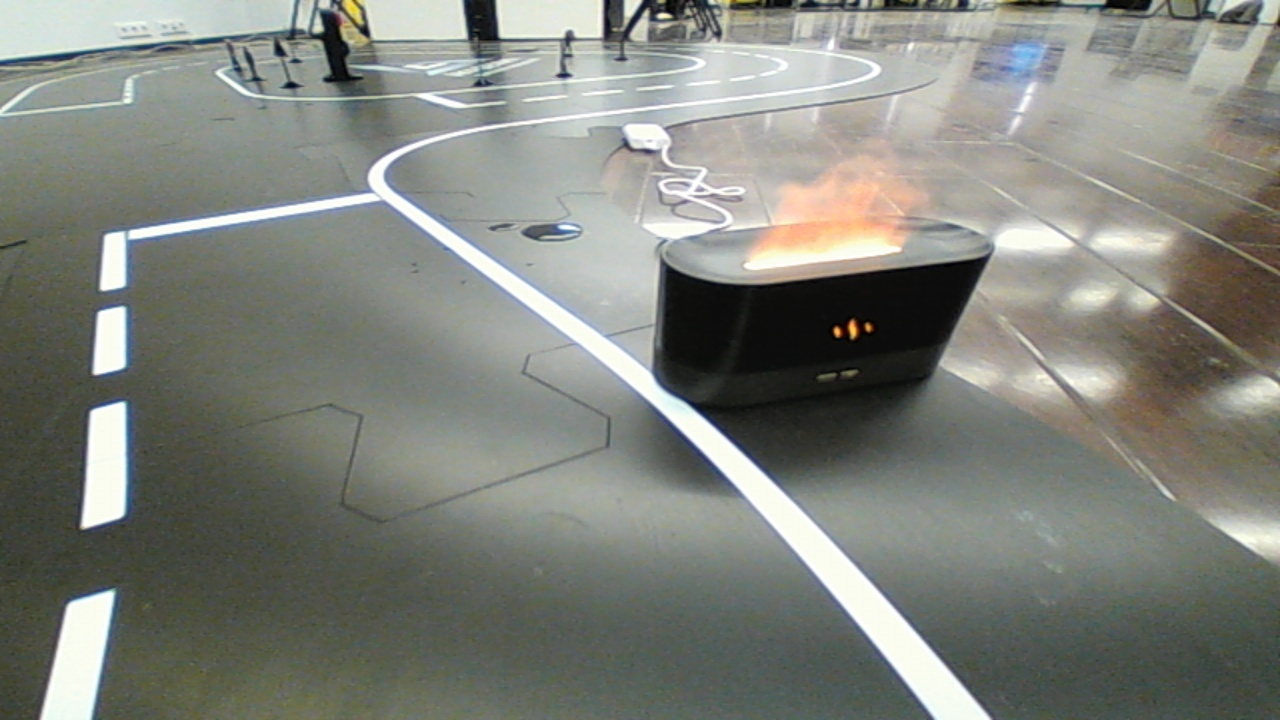Movement prohibition: (643, 205, 1001, 420)
